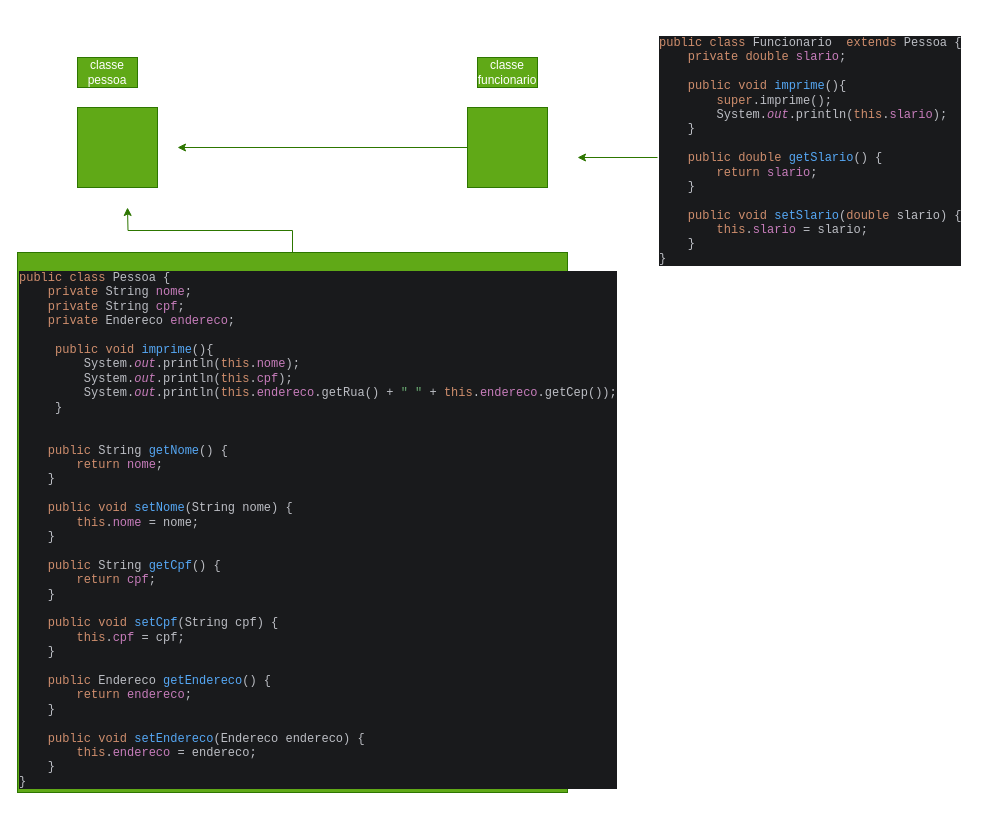
Image size: 985x818. Some labels were removed from this diagram. Here are the shapes that lost their labels. From the top down, the centre of each, then its label:
the point at 117,147: nome endereço cpf
the point at 507,147: nome endereço cpf salario imprime()
